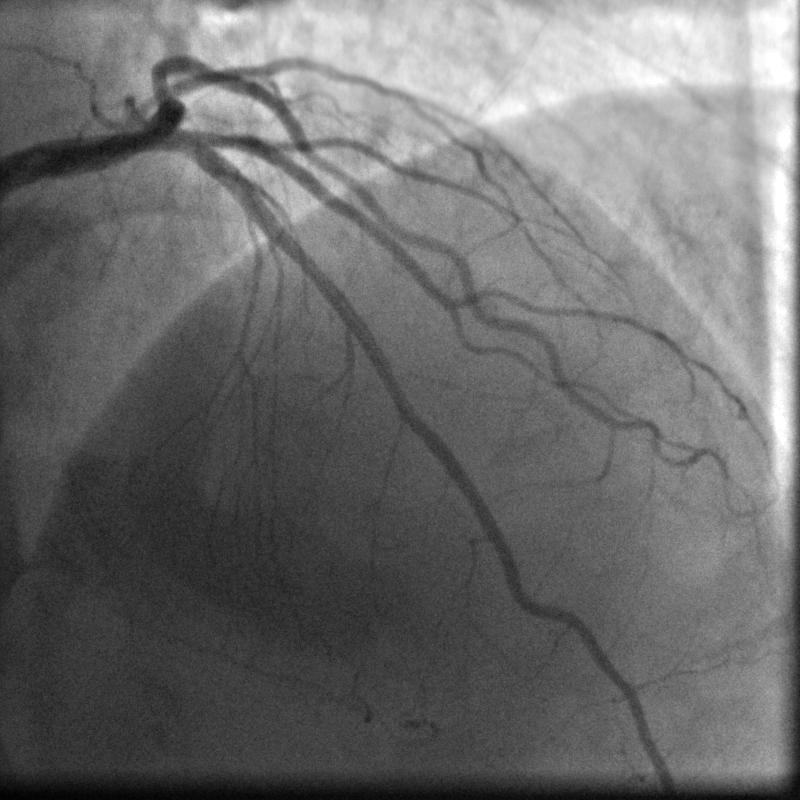Stenosis: (397, 375, 431, 449)
